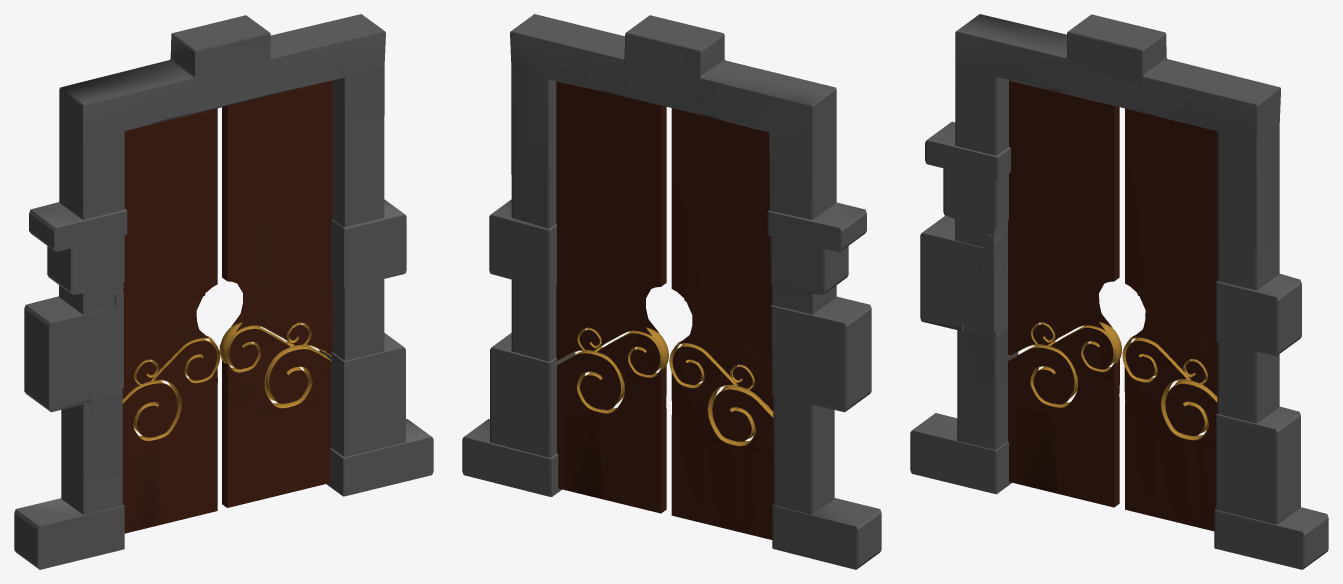
Rendered from Door_entier.FBX.
3 renders of one model, left to right at view 1: azimuth 30°, elevation 25°; view 2: azimuth 150°, elevation 25°; view 3: azimuth 330°, elevation 25°, orthographic.
Parts seen in each view (by area): view 1: Door_tower, Box007, Box008, Line007, Line001, Line010, Line008; view 2: Door_tower, Box007, Box008, Line010, Line001, Line007, Line008; view 3: Door_tower, Box008, Box007, Line007, Line008, Line010, Line001.
Boxes of the visible parts, x1,y1,x2,y2 form: Door_tower: (14, 14, 433, 569); Box007: (222, 80, 332, 507); Box008: (122, 108, 217, 533); Line007: (264, 342, 331, 408); Line001: (219, 322, 294, 372); Line010: (122, 379, 181, 441); Line008: (151, 335, 220, 383); Door_tower: (462, 14, 881, 569); Box007: (556, 81, 666, 513); Box008: (671, 108, 773, 539); Line010: (707, 384, 773, 446); Line001: (594, 327, 668, 377); Line007: (557, 347, 624, 413); Line008: (669, 341, 738, 388); Door_tower: (910, 14, 1328, 569); Box008: (1008, 80, 1119, 507); Box007: (1124, 108, 1217, 531); Line007: (1161, 378, 1217, 440); Line008: (1047, 322, 1121, 372); Line010: (1008, 341, 1077, 407); Line001: (1122, 335, 1191, 382).
Bounding box in the file's own units: 1049 × 1220 × 123.
